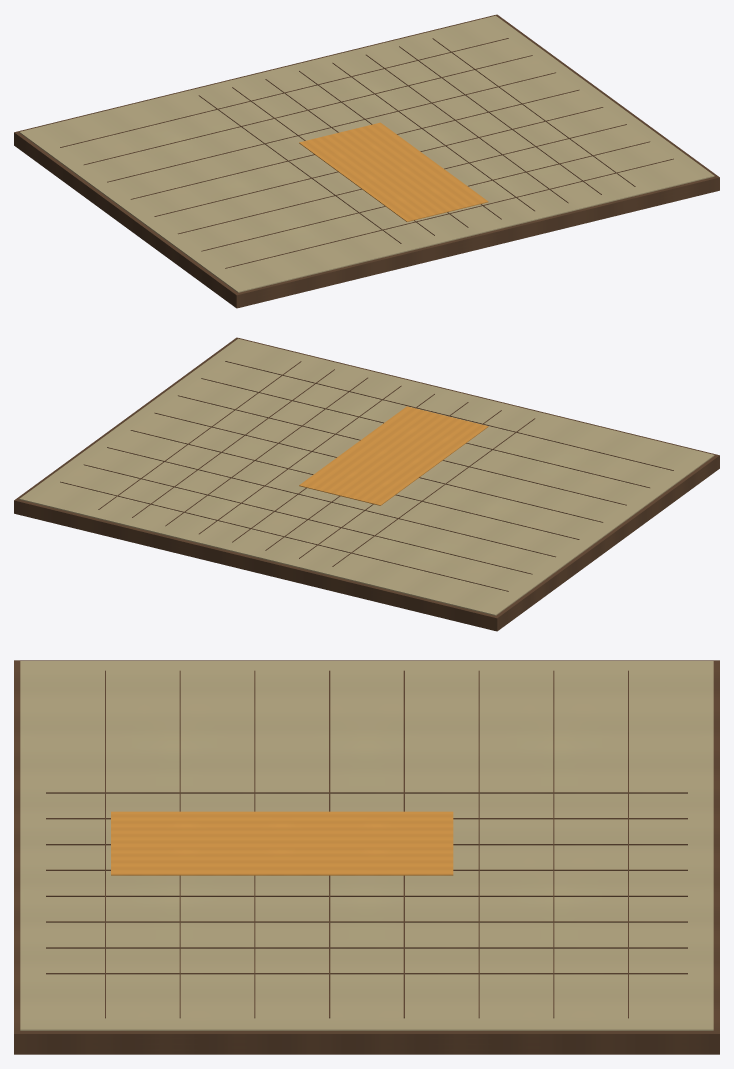
Rendered from atlas100-s014-a07.lod1.glb.
3 renders of one model, top to bottom at view 1: azimuth 30°, elevation 25°; view 2: azimuth 150°, elevation 25°; view 3: azimuth 270°, elevation 25°, orthographic. The views are drawn at different scales.
Parts seen in each view (by area): view 1: atlas100-s014-a07:part-001, atlas100-s014-a07:part-000, atlas100-s014-a07:part-021, atlas100-s014-a07:part-015, atlas100-s014-a07:part-014, atlas100-s014-a07:part-013, atlas100-s014-a07:part-020, atlas100-s014-a07:part-019, atlas100-s014-a07:part-017, atlas100-s014-a07:part-016, atlas100-s014-a07:part-018; view 2: atlas100-s014-a07:part-001, atlas100-s014-a07:part-000, atlas100-s014-a07:part-021, atlas100-s014-a07:part-014, atlas100-s014-a07:part-013, atlas100-s014-a07:part-020, atlas100-s014-a07:part-015, atlas100-s014-a07:part-016, atlas100-s014-a07:part-019, atlas100-s014-a07:part-018, atlas100-s014-a07:part-017; view 3: atlas100-s014-a07:part-001, atlas100-s014-a07:part-000, atlas100-s014-a07:part-021, atlas100-s014-a07:part-005, atlas100-s014-a07:part-009, atlas100-s014-a07:part-010, atlas100-s014-a07:part-011, atlas100-s014-a07:part-012, atlas100-s014-a07:part-014, atlas100-s014-a07:part-015.
Part boxes in pixels (box(x1,y1,x2,y2)): atlas100-s014-a07:part-001: box(19, 15, 714, 292); atlas100-s014-a07:part-000: box(14, 14, 719, 308); atlas100-s014-a07:part-021: box(299, 122, 488, 221); atlas100-s014-a07:part-015: box(107, 72, 555, 182); atlas100-s014-a07:part-014: box(84, 55, 532, 164); atlas100-s014-a07:part-013: box(60, 38, 508, 147); atlas100-s014-a07:part-020: box(225, 158, 673, 268); atlas100-s014-a07:part-019: box(201, 141, 650, 251); atlas100-s014-a07:part-017: box(154, 107, 603, 216); atlas100-s014-a07:part-016: box(130, 89, 579, 199); atlas100-s014-a07:part-018: box(178, 124, 626, 234); atlas100-s014-a07:part-001: box(19, 338, 714, 615); atlas100-s014-a07:part-000: box(14, 337, 719, 631); atlas100-s014-a07:part-021: box(299, 406, 488, 505); atlas100-s014-a07:part-014: box(83, 464, 532, 574); atlas100-s014-a07:part-013: box(60, 481, 508, 591); atlas100-s014-a07:part-020: box(225, 361, 673, 470); atlas100-s014-a07:part-015: box(107, 447, 555, 557); atlas100-s014-a07:part-016: box(130, 430, 579, 539); atlas100-s014-a07:part-019: box(201, 378, 649, 487); atlas100-s014-a07:part-018: box(178, 395, 626, 505); atlas100-s014-a07:part-017: box(154, 412, 603, 522); atlas100-s014-a07:part-001: box(20, 661, 713, 1030); atlas100-s014-a07:part-000: box(14, 660, 719, 1054); atlas100-s014-a07:part-021: box(111, 811, 453, 875); atlas100-s014-a07:part-005: box(46, 792, 687, 793); atlas100-s014-a07:part-009: box(46, 895, 687, 896); atlas100-s014-a07:part-010: box(46, 921, 687, 922); atlas100-s014-a07:part-011: box(46, 947, 687, 948); atlas100-s014-a07:part-012: box(46, 973, 687, 974); atlas100-s014-a07:part-014: box(553, 670, 554, 1018); atlas100-s014-a07:part-015: box(478, 670, 479, 1018).
Bounding box in the file's own units: 13.02 × 0.404 × 10.4.
3 materials, 3 textured.
